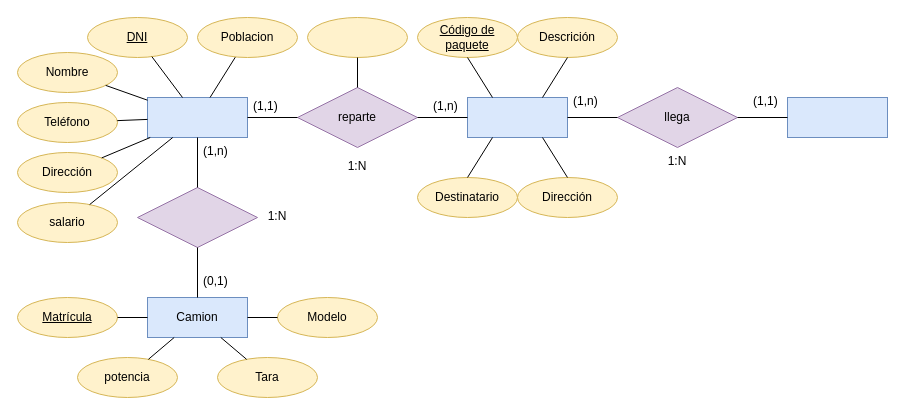
Image size: 905x415. Some labels were removed from this diagram. Here are the shapes that lost their labels. From the top down, the centre of each, then its label:
At pixel 357 37: "Fecha".
At pixel 197 117: "Camionero".
At pixel 517 117: "paquete".
At pixel 837 117: "ciudad".
At pixel 197 217: "conduce".
